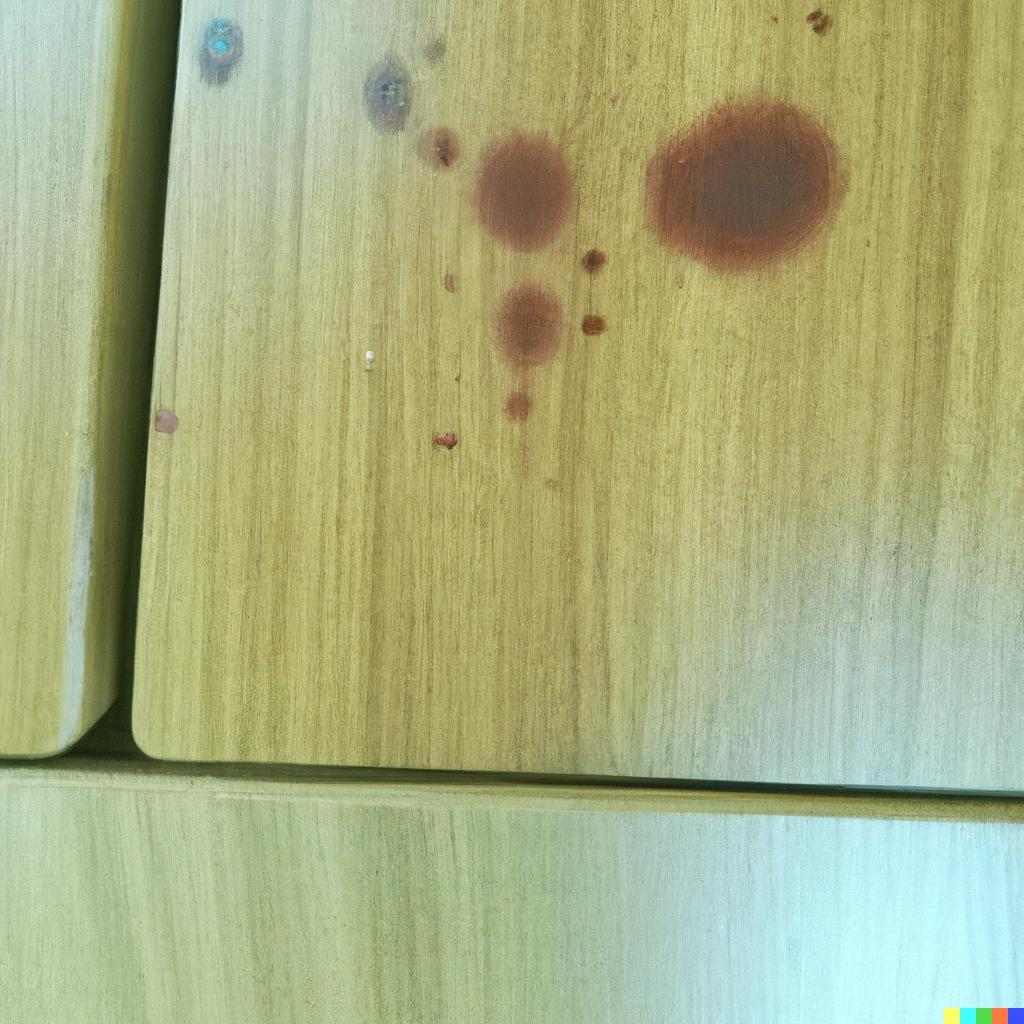Fire: (640, 97, 842, 276), (471, 130, 575, 254), (491, 278, 563, 424), (416, 126, 463, 172), (579, 248, 606, 274), (581, 314, 605, 335)
